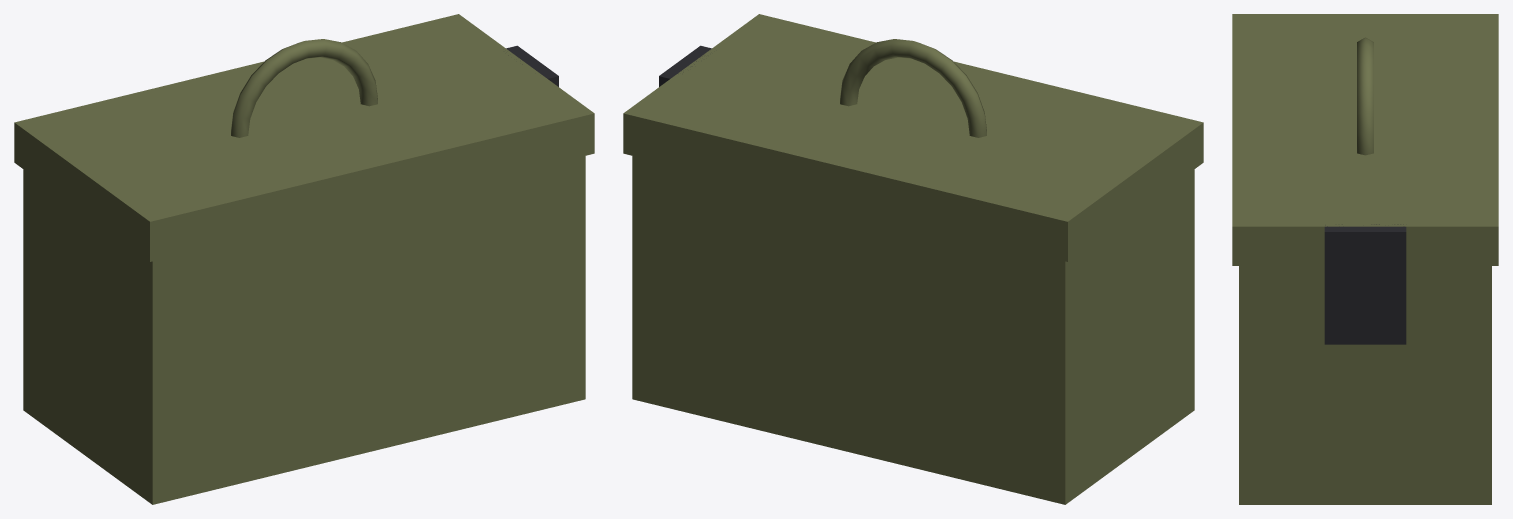
The model's file is prop.ammo-can.glb.
3 views of the same model, side by side, from view 1: azimuth 30°, elevation 25°; view 2: azimuth 150°, elevation 25°; view 3: azimuth 270°, elevation 25° (orthographic). The views are drawn at different scales.
Parts seen in each view (by area): view 1: prop.ammo-can; view 2: prop.ammo-can; view 3: prop.ammo-can.
Part boxes in pixels (x1,y1,x2,y2): prop.ammo-can: [14, 14, 594, 504]; prop.ammo-can: [623, 14, 1203, 504]; prop.ammo-can: [1232, 14, 1498, 504].
Bounding box in the file's own units: 0.316 × 0.241 × 0.163.
